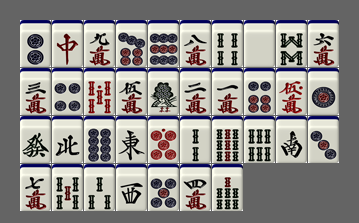0m: (276, 68, 307, 115)
0p: (148, 116, 179, 163)
0s: (84, 68, 115, 115)
1m: (212, 68, 243, 115)
1p: (308, 68, 339, 115)
1s: (148, 68, 179, 115)
1z: (116, 116, 147, 163)
2m: (180, 68, 211, 115)
2p: (20, 20, 51, 67)
2s: (180, 116, 211, 163)
2z: (276, 116, 307, 163)
3m: (20, 68, 51, 115)
3p: (308, 116, 339, 163)
3s: (84, 164, 115, 211)
3z: (116, 164, 147, 211)
4m: (180, 164, 211, 211)
4p: (52, 68, 83, 115)
4s: (212, 20, 243, 67)
4z: (52, 116, 83, 163)
5m: (116, 68, 147, 115)
5p: (148, 164, 179, 211)
5s: (52, 164, 83, 211)
5z: (244, 20, 275, 67)
6m: (308, 20, 339, 67)
6p: (244, 68, 275, 115)
6s: (244, 116, 275, 163)
6z: (20, 116, 51, 163)
7m: (20, 164, 51, 211)
7p: (116, 20, 147, 67)
7s: (212, 164, 243, 211)
7z: (52, 20, 83, 67)
8m: (180, 20, 211, 67)
8p: (84, 116, 115, 163)
8s: (276, 20, 307, 67)
9m: (84, 20, 115, 67)
9p: (148, 20, 179, 67)
9s: (212, 116, 243, 163)
